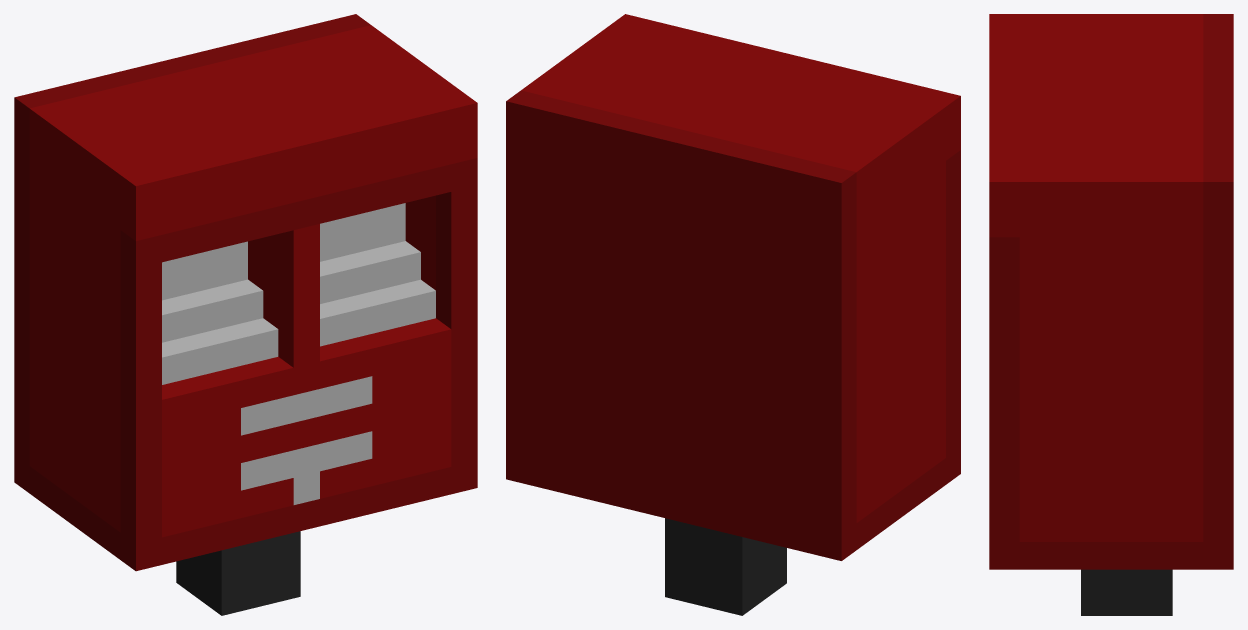
The model's file is mailbox.glb.
3 views of the same model, side by side, from view 1: azimuth 30°, elevation 25°; view 2: azimuth 150°, elevation 25°; view 3: azimuth 270°, elevation 25° (orthographic). The views are drawn at different scales.
Visible parts, largest first — view 1: ObjObject; view 2: ObjObject; view 3: ObjObject.
Part boxes in pixels (left/top/right/bottom): ObjObject: left=14, top=14, right=477, bottom=615; ObjObject: left=506, top=14, right=960, bottom=615; ObjObject: left=989, top=14, right=1233, bottom=615.
Size of the model in its own units: 1.3 by 1.8 by 0.8.
1 material, 1 textured.
